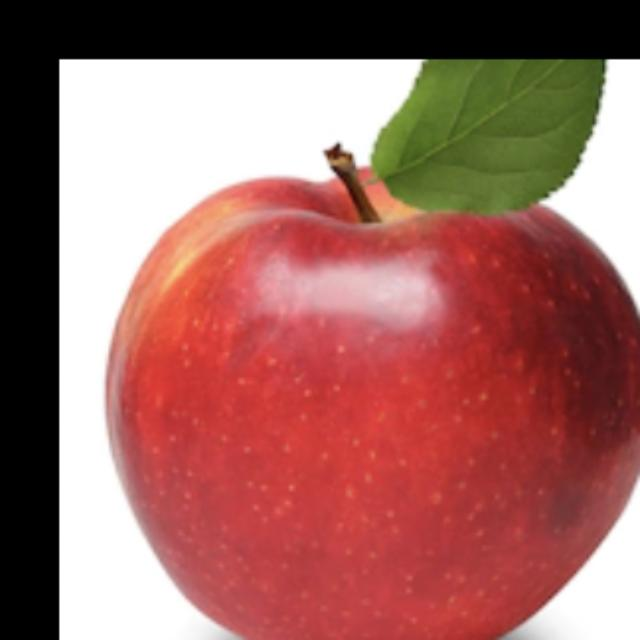Apel Segar: (92, 136, 640, 640)
